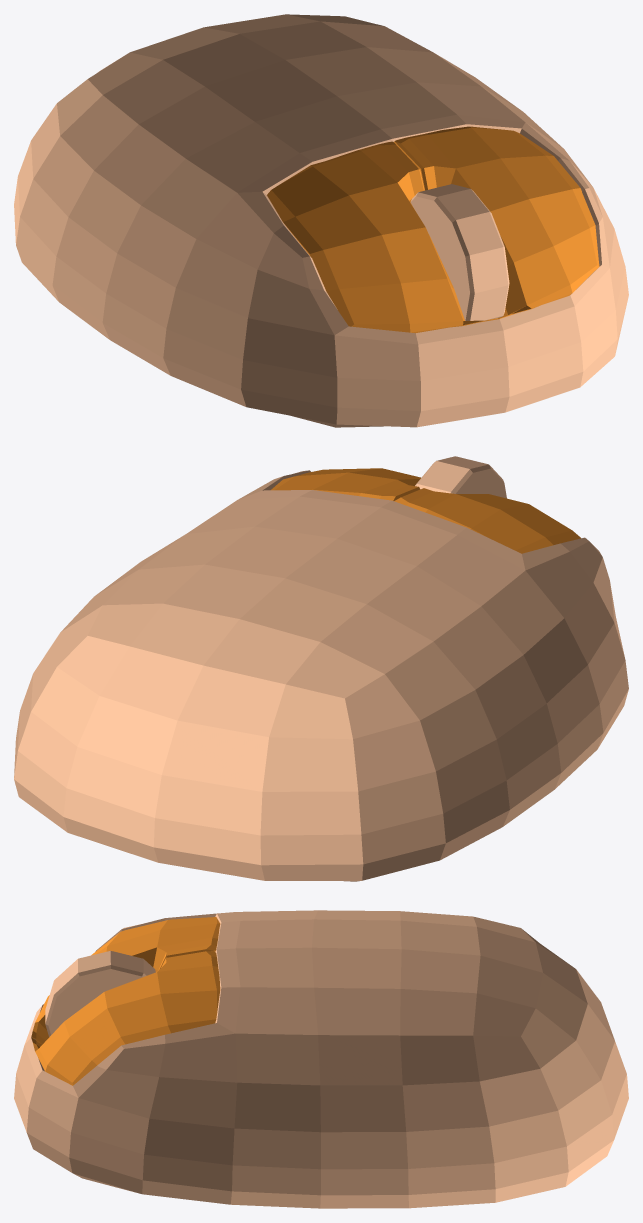
The model's file is Computer Mouse 3.fbx.
3 views of the same model, one above another, from view 1: azimuth 30°, elevation 25°; view 2: azimuth 150°, elevation 25°; view 3: azimuth 270°, elevation 25° (orthographic). The views are drawn at different scales.
Parts seen in each view (by area): view 1: Node 0; view 2: Node 0; view 3: Node 0.
Boxes of the visible parts, bbox=[...] form: Node 0: bbox=[14, 14, 628, 427]; Node 0: bbox=[14, 456, 628, 881]; Node 0: bbox=[14, 910, 628, 1208].
Bounding box in the file's own units: 0.1049 × 0.034 × 0.0781.
